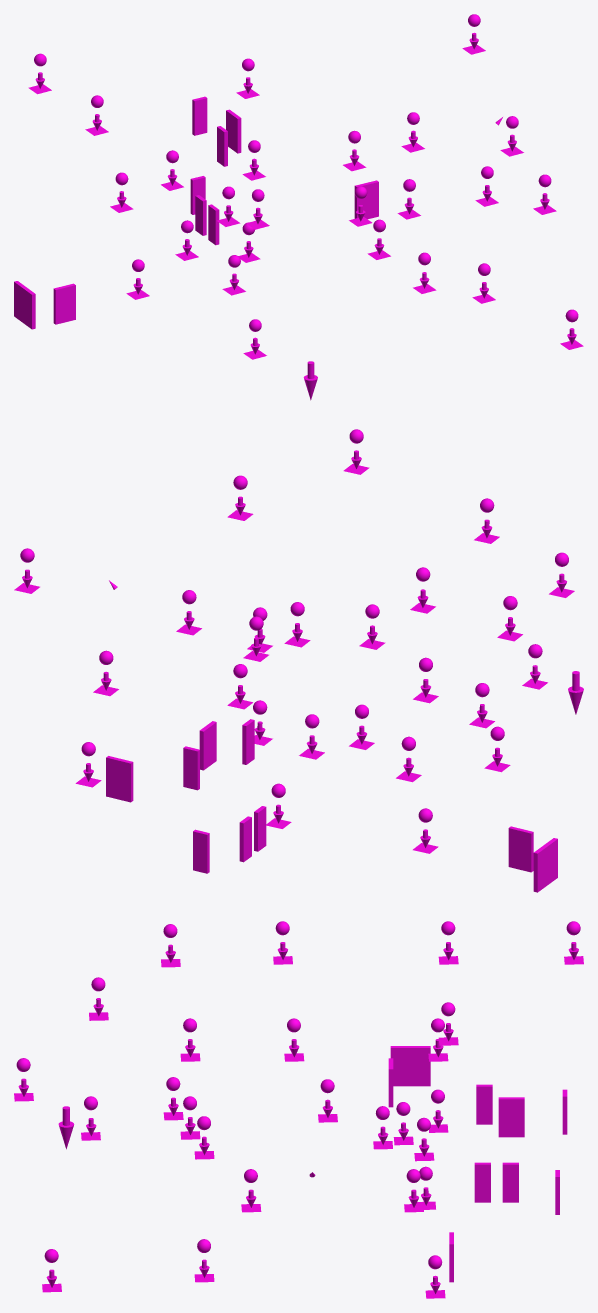
File: main_diaplay_advence_interactives.glb
3 views of the same model, one above another, from view 1: azimuth 30°, elevation 25°; view 2: azimuth 150°, elevation 25°; view 3: azimuth 270°, elevation 25° (orthographic). The views are drawn at different scales.
Parts seen in each view (by area): view 1: Door_l1_4, Door_l1_3, Door_l1_5, Door_l2_2, Door_l2_0; view 2: Door_l1_5, Door_l1_4, Door_l1_3, Door_l2_0, Door_l2_2, Door_l1_0; view 3: Door_l1_3, Door_l2_0, Door_l2_1, Door_l1_1, Door_l1_2.
Part boxes in pixels (<box>): Door_l1_4: <box>53,283,75,324</box>; Door_l1_3: <box>14,281,35,329</box>; Door_l1_5: <box>354,180,378,219</box>; Door_l2_2: <box>192,96,207,135</box>; Door_l2_0: <box>226,109,241,153</box>; Door_l1_5: <box>106,756,133,802</box>; Door_l1_4: <box>508,826,533,872</box>; Door_l1_3: <box>533,838,557,892</box>; Door_l2_0: <box>199,721,216,770</box>; Door_l2_2: <box>183,746,199,790</box>; Door_l1_0: <box>193,829,209,873</box>; Door_l1_3: <box>390,1046,430,1086</box>; Door_l2_0: <box>498,1097,524,1137</box>; Door_l2_1: <box>476,1084,492,1124</box>; Door_l1_1: <box>502,1162,518,1202</box>; Door_l1_2: <box>474,1162,490,1202</box>.
Size of the model in its own units: 31.59 by 12.47 by 30.47.
